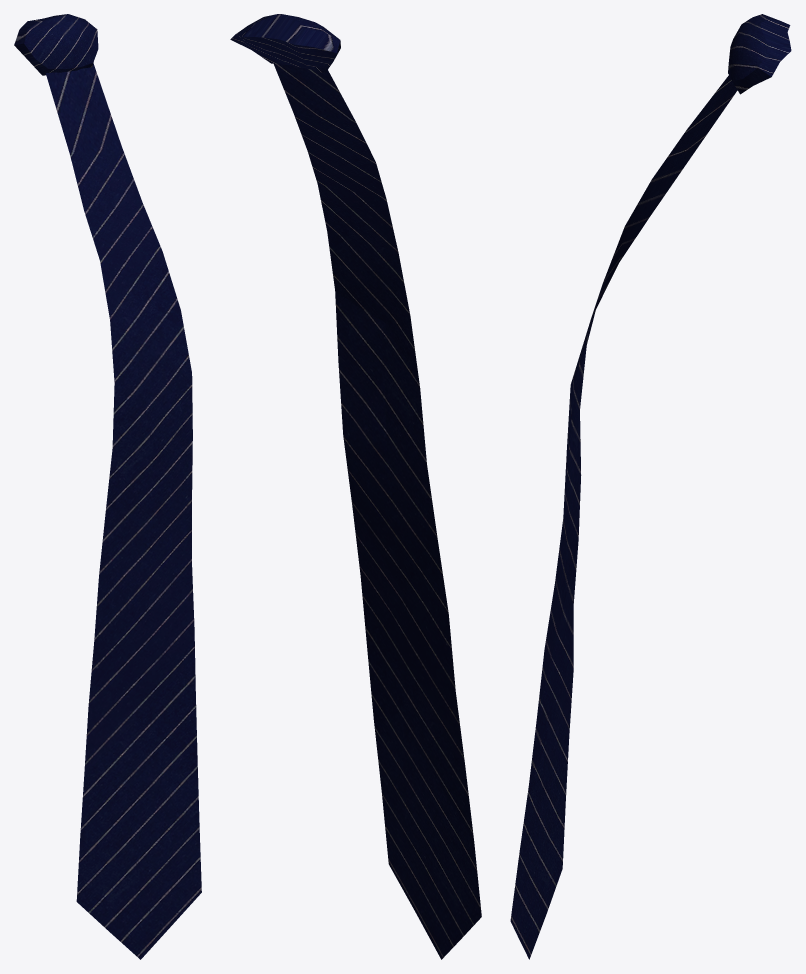
File: Pose-6_Tie-4.fbx
The picture shows the model from 3 angles, left to right: view 1: azimuth 30°, elevation 25°; view 2: azimuth 150°, elevation 25°; view 3: azimuth 270°, elevation 25°; orthographic projection. The views are drawn at different scales.
Parts seen in each view (by area): view 1: Pose-6_Tie-4; view 2: Pose-6_Tie-4; view 3: Pose-6_Tie-4.
Boxes of the visible parts, <box> form: Pose-6_Tie-4: <box>14,14,201,959</box>; Pose-6_Tie-4: <box>230,14,481,959</box>; Pose-6_Tie-4: <box>510,14,791,959</box>.
Bounding box in the file's own units: 7.58 × 52.37 × 14.06.
